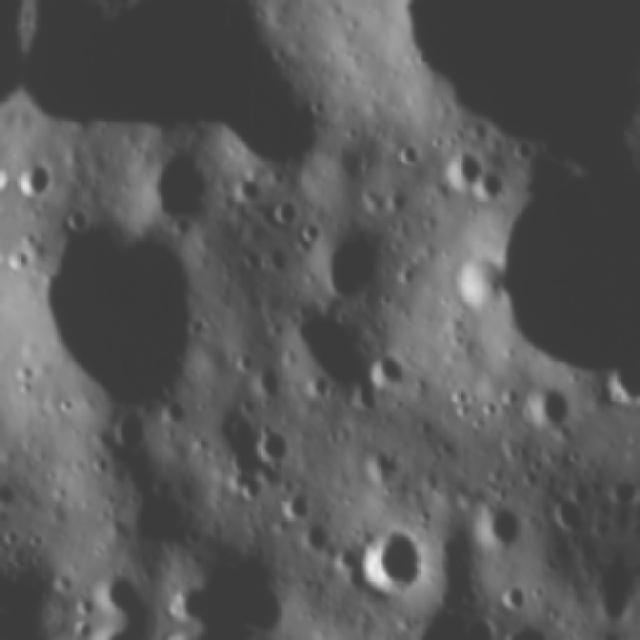crater: (486, 152, 640, 370), (28, 220, 204, 400), (303, 225, 383, 304), (357, 522, 423, 596), (10, 149, 73, 209), (81, 565, 142, 617), (474, 491, 523, 555), (518, 382, 578, 431), (364, 345, 414, 390), (249, 419, 293, 468), (596, 361, 638, 402), (442, 145, 475, 192), (265, 194, 300, 228), (388, 138, 422, 173), (476, 164, 502, 208)
